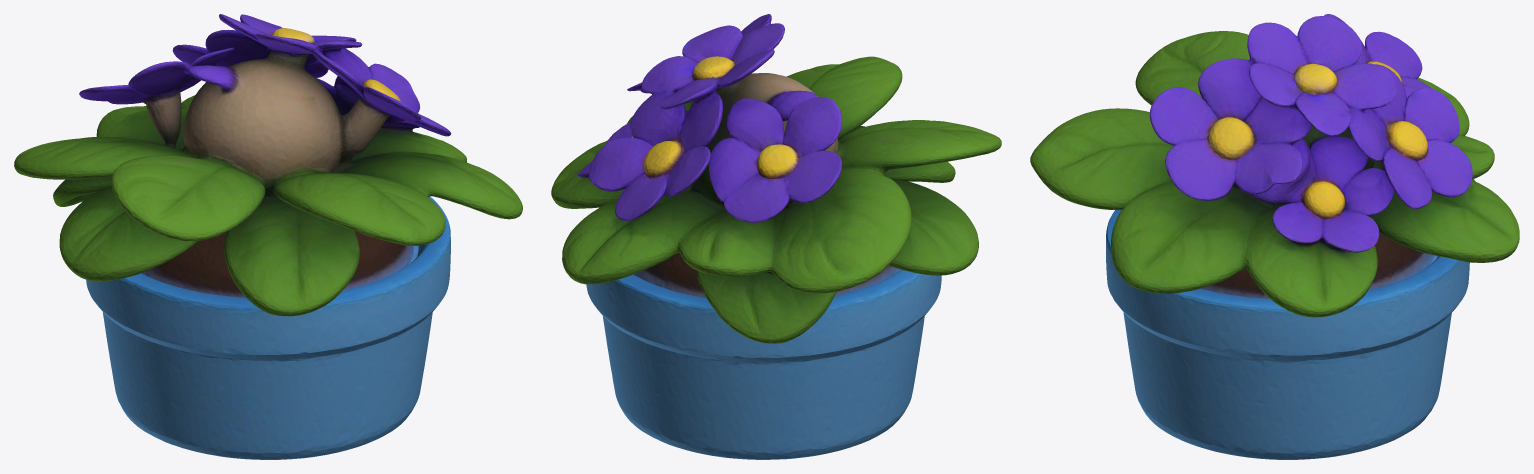
The model's file is flower_4.glb.
The picture shows the model from 3 angles, left to right: view 1: azimuth 30°, elevation 25°; view 2: azimuth 150°, elevation 25°; view 3: azimuth 270°, elevation 25°; orthographic projection. The views are drawn at different scales.
Visible parts, largest first — view 1: tripo_node_da6fa999-45d1-4578-addc-8da774744472; view 2: tripo_node_da6fa999-45d1-4578-addc-8da774744472; view 3: tripo_node_da6fa999-45d1-4578-addc-8da774744472.
Part boxes in pixels (x1,y1,x2,y2): tripo_node_da6fa999-45d1-4578-addc-8da774744472: (14, 14, 522, 459); tripo_node_da6fa999-45d1-4578-addc-8da774744472: (551, 14, 1001, 459); tripo_node_da6fa999-45d1-4578-addc-8da774744472: (1030, 14, 1519, 459).
Size of the model in its own units: 0.9455 by 0.8409 by 0.9983.
1 material, 1 textured.
